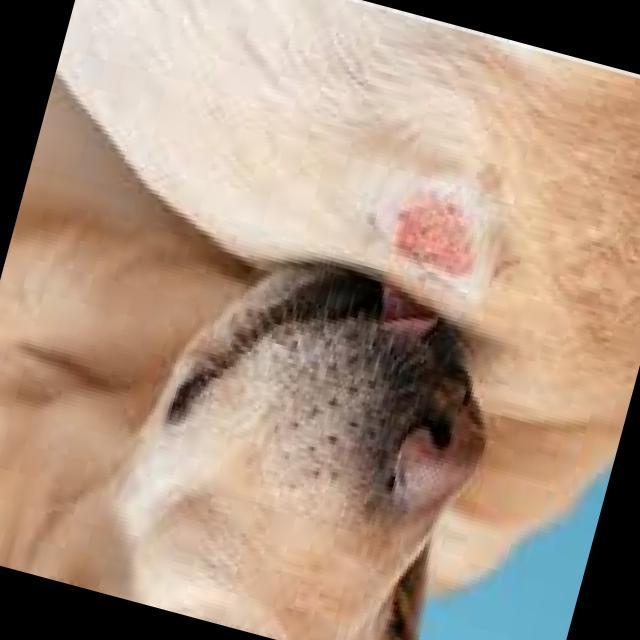Eczema: (400, 202, 484, 288)
